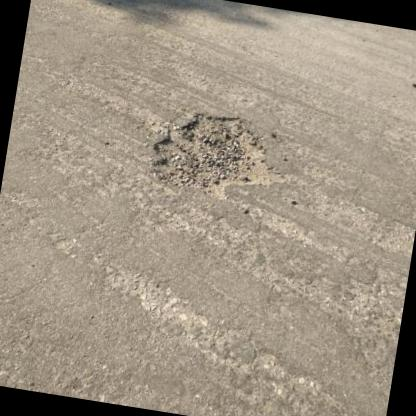pothole: (144, 100, 294, 212)
